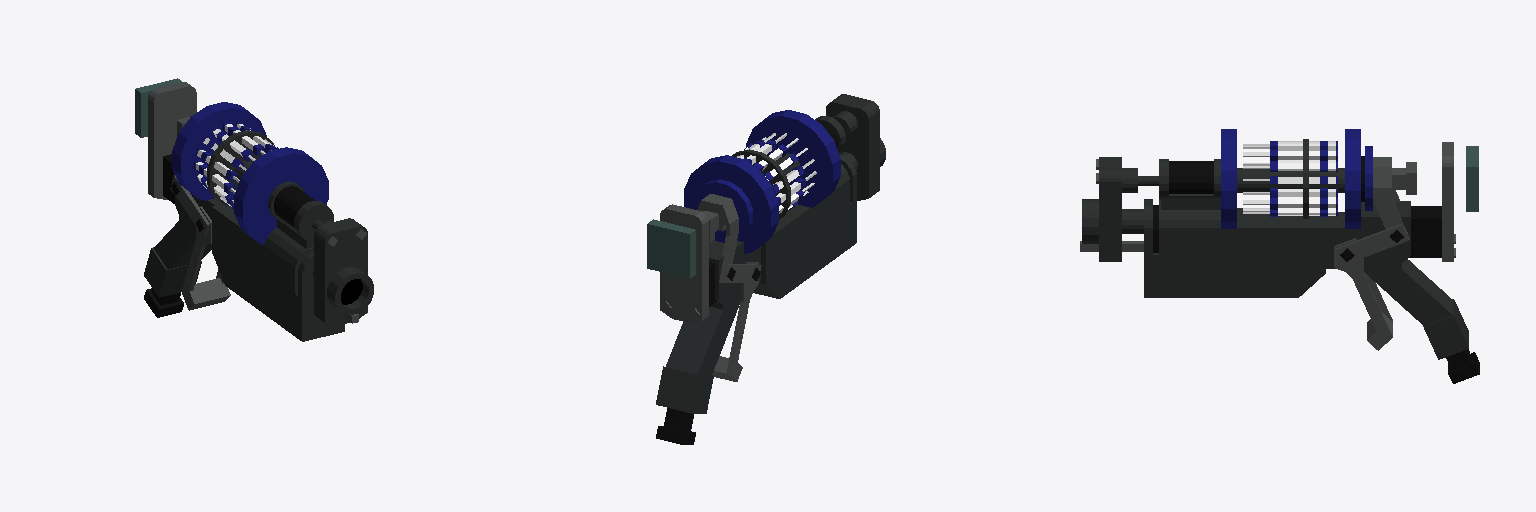
3 renders of one model, left to right at view 1: azimuth 30°, elevation 25°; view 2: azimuth 150°, elevation 25°; view 3: azimuth 270°, elevation 25°, orthographic.
Parts seen in each view (by area): view 1: cube; view 2: cube; view 3: cube.
Part boxes in pixels (x1,y1,x2,y2): cube: (135, 78, 373, 341); cube: (647, 94, 885, 444); cube: (1080, 129, 1479, 383).
Size of the model in its own units: 6.03 by 16.36 by 24.18.
Materials: 2 (2 with a texture image).